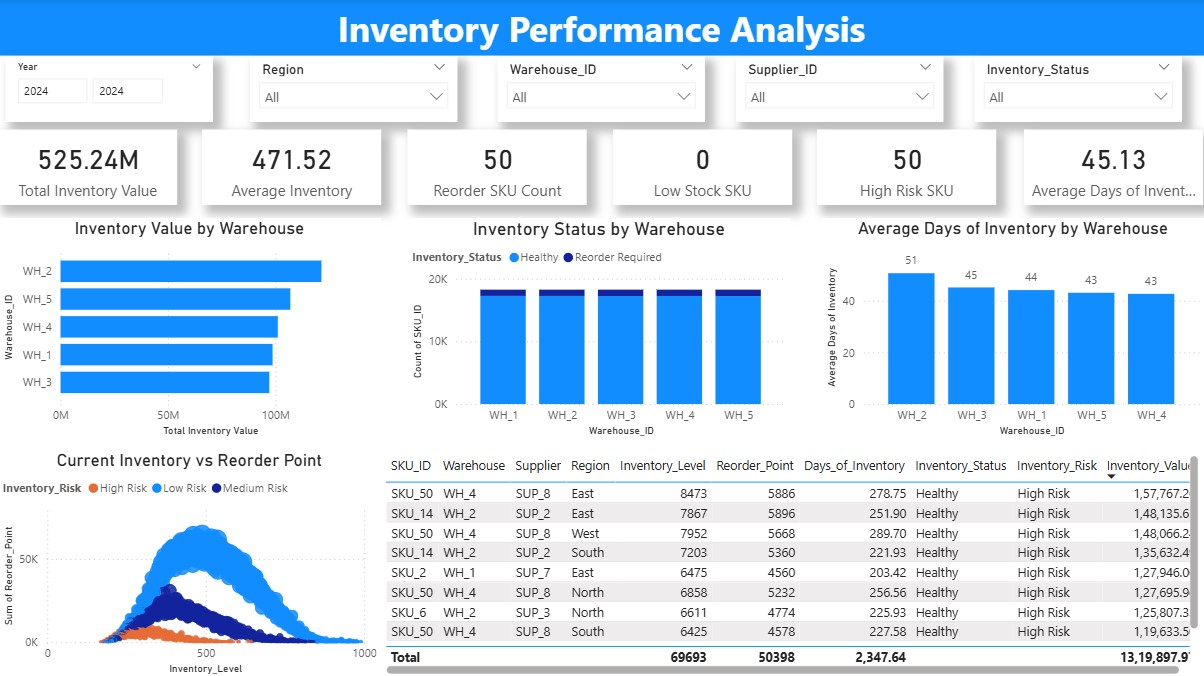

The dashboard page shown, as its layout file describes it:
{"tool":"powerbi","page":{"name":"Inventory Performance","canvas":[1280,720],"ordinal":1},"visuals":[{"type":"textbox","box":[0,0,1280,60],"z":0},{"type":"slicer","fields":{"Values":["DateTable.Year"]},"box":[8,60,220,70],"z":1000},{"type":"slicer","fields":{"Values":["InventoryData.Region"]},"box":[268,60,220,70],"z":2000},{"type":"slicer","fields":{"Values":["InventoryData.Warehouse_ID"]},"box":[530,60,220,70],"z":3000},{"type":"slicer","fields":{"Values":["InventoryData.Supplier_ID"]},"box":[782,60,220,70],"z":4000},{"type":"slicer","fields":{"Values":["InventoryData.Inventory_Status"]},"box":[1036,60,220,70],"z":5000},{"type":"card","fields":{"Values":["InventoryData.Total Inventory Value"]},"box":[0,138,190,80],"z":6000},{"type":"card","fields":{"Values":["InventoryData.Average Inventory"]},"box":[216,138,190,80],"z":7000},{"type":"card","fields":{"Values":["InventoryData.Reorder SKU Count"]},"box":[434,138,190,80],"z":8000},{"type":"card","fields":{"Values":["InventoryData.Low Stock SKU"]},"box":[652,138,190,80],"z":9000},{"type":"card","fields":{"Values":["DateTable.High Risk SKU"]},"box":[868,138,190,80],"z":10000},{"type":"card","fields":{"Values":["InventoryData.Average Days of Inventory"]},"box":[1088,138,190,80],"z":11000},{"type":"clusteredBarChart","title":"Inventory Value by Warehouse","fields":{"Category":["InventoryData.Warehouse_ID"],"Y":["InventoryData.Total Inventory Value"]},"box":[0,232,406,236],"z":12000},{"type":"columnChart","title":"Inventory Status by Warehouse","fields":{"Category":["InventoryData.Warehouse_ID"],"Series":["InventoryData.Inventory_Status"],"Y":["CountNonNull(InventoryData.SKU_ID)"]},"box":[434,232,406,236],"z":13000},{"type":"clusteredColumnChart","title":"Average Days of Inventory by Warehouse","fields":{"Category":["InventoryData.Warehouse_ID"],"Y":["InventoryData.Average Days of Inventory"]},"box":[874,232,406,236],"z":14000},{"type":"scatterChart","title":"Current Inventory vs Reorder Point","fields":{"X":["InventoryData.Inventory_Level"],"Y":["Sum(InventoryData.Reorder_Point)"],"Size":["Sum(InventoryData.Inventory_Value)"],"Series":["InventoryData.Inventory_Risk"]},"box":[0,478,406,242],"z":15000},{"type":"tableEx","fields":{"Values":["InventoryData.SKU_ID","InventoryData.Warehouse_ID","InventoryData.Supplier_ID","InventoryData.Region","Sum(InventoryData.Inventory_Level)","Sum(InventoryData.Reorder_Point)","Sum(InventoryData.Days_of_Inventory)","InventoryData.Inventory_Status","InventoryData.Inventory_Risk","Sum(InventoryData.Inventory_Value)"]},"box":[406,478,872,242],"z":16000}]}

Visuals, with their boxes in screenshot pixels (x1, y1, x2, y2), scaled from the page's 1280x720 canvas onto the 1204x676 screenshot:
textbox: BBox(0, 0, 1203, 56)
slicer - DateTable.Year: BBox(8, 56, 214, 122)
slicer - InventoryData.Region: BBox(252, 56, 459, 122)
slicer - InventoryData.Warehouse_ID: BBox(499, 56, 705, 122)
slicer - InventoryData.Supplier_ID: BBox(736, 56, 943, 122)
slicer - InventoryData.Inventory_Status: BBox(974, 56, 1181, 122)
card - InventoryData.Total Inventory Value: BBox(0, 130, 179, 205)
card - InventoryData.Average Inventory: BBox(203, 130, 382, 205)
card - InventoryData.Reorder SKU Count: BBox(408, 130, 587, 205)
card - InventoryData.Low Stock SKU: BBox(613, 130, 792, 205)
card - DateTable.High Risk SKU: BBox(816, 130, 995, 205)
card - InventoryData.Average Days of Inventory: BBox(1023, 130, 1202, 205)
"Inventory Value by Warehouse" clusteredBarChart: BBox(0, 218, 382, 439)
"Inventory Status by Warehouse" columnChart: BBox(408, 218, 790, 439)
"Average Days of Inventory by Warehouse" clusteredColumnChart: BBox(822, 218, 1203, 439)
"Current Inventory vs Reorder Point" scatterChart: BBox(0, 449, 382, 675)
tableEx - InventoryData.SKU_ID x InventoryData.Warehouse_ID: BBox(382, 449, 1202, 675)
